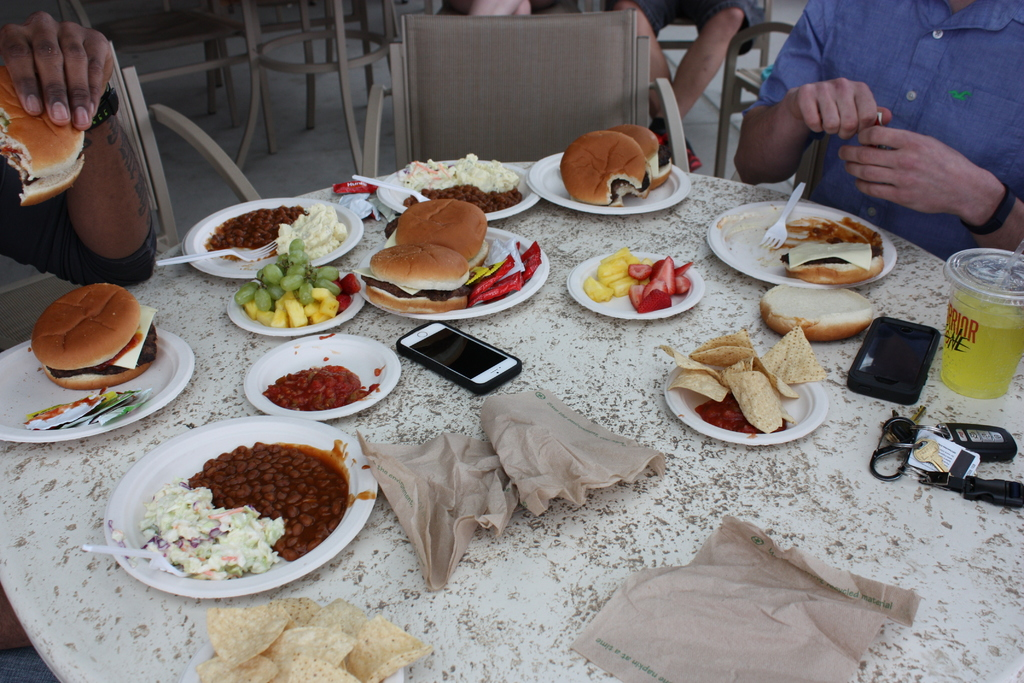Hamburger: (30, 283, 158, 388), (353, 243, 469, 311), (557, 129, 652, 205), (760, 284, 872, 343), (394, 199, 487, 268), (782, 243, 883, 285), (617, 123, 671, 187)
